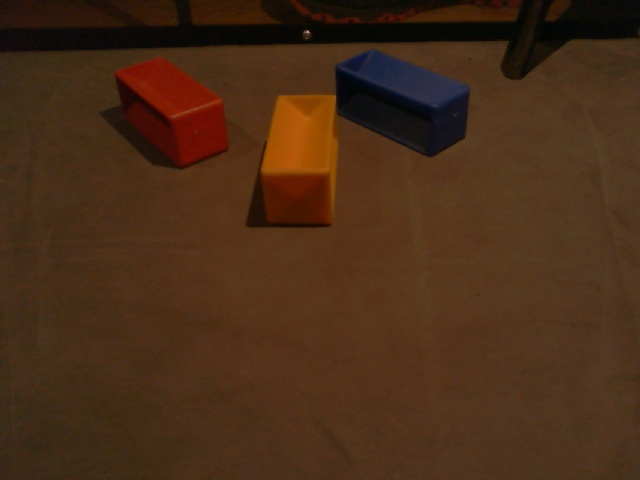BlueSample: (334, 44, 473, 161)
RedSample: (112, 53, 231, 170)
YellowSample: (258, 89, 343, 232)
